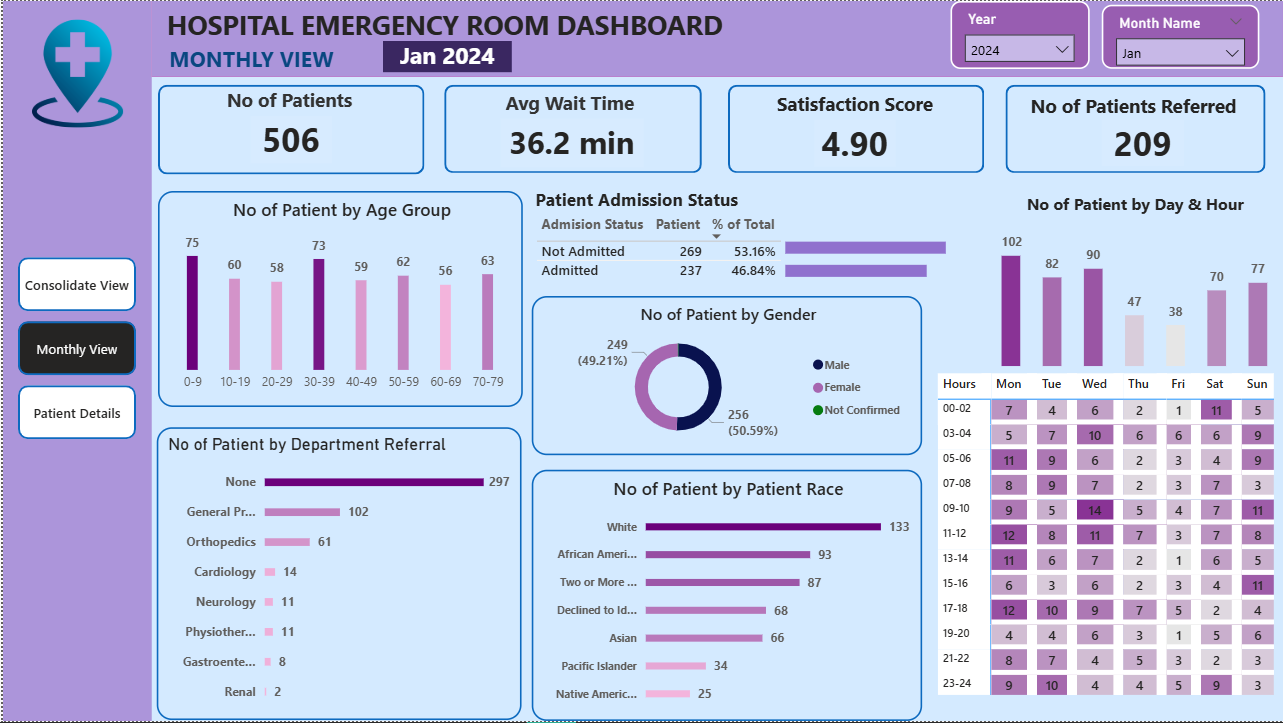

This screenshot's page, from the dashboard's own definition file:
{"tool":"powerbi","page":{"name":"Monthly View","canvas":[1280,720],"ordinal":1},"visuals":[{"type":"shape","box":[155.3,83.3,266.4,89.6],"z":0},{"type":"shape","box":[0,0,148.8,720],"z":1000},{"type":"shape","box":[149,0,1131.3,75.8],"z":2000},{"type":"textbox","box":[159.1,0,588.4,46.7],"z":3000},{"type":"textbox","box":[161.6,37.9,178,41.7],"z":4000},{"type":"card","fields":{"Values":["Hospital ER_Data.No of Patient"]},"box":[247.5,115.3,81.2,47.5],"z":5000},{"type":"slicer","fields":{"Values":["Data Table 1.Year"]},"box":[946.9,0,138.9,68.2],"z":6000},{"type":"slicer","fields":{"Values":["Data Table 1.Month Name"]},"box":[1098.4,3.8,157.8,64.4],"z":7000},{"type":"textbox","box":[218.7,81.5,137.5,43.8],"z":8000},{"type":"card","fields":{"Values":["Min(Data Table 1.Month & Year)"]},"box":[380,40.4,128.8,31.6],"z":9000},{"type":"shape","box":[440.6,83.3,257.6,88.4],"z":10000},{"type":"card","fields":{"Values":["Hospital ER_Data.Avg Wait Time"]},"box":[497.1,117.1,142.9,48.6],"z":11000},{"type":"textbox","box":[497.1,84.3,152.9,40],"z":12000},{"type":"shape","box":[1002.5,83.3,260.1,88.4],"z":13000},{"type":"card","fields":{"Values":["Hospital ER_Data.No of Patient Reffered"]},"box":[1098.4,118.7,82.1,46.7],"z":14000},{"type":"textbox","box":[1022.7,87.1,217.2,42.9],"z":15000},{"type":"shape","box":[724.7,83.3,256.3,88.4],"z":16000},{"type":"card","fields":{"Values":["Hospital ER_Data.Satisfaction Score"]},"box":[811.2,119,81.2,47.5],"z":17000},{"type":"textbox","box":[768.7,85.3,171.2,43.8],"z":18000},{"type":"columnChart","fields":{"Category":["Hospital ER_Data.\"Age Group"],"Y":["Hospital ER_Data.No of Patient"]},"box":[155.3,189.4,364.9,215.9],"z":19000},{"type":"clusteredBarChart","fields":{"Category":["Hospital ER_Data.Department Referral"],"Y":["Hospital ER_Data.No of Patient"]},"box":[154,426.8,364.9,292.9],"z":20000},{"type":"group","id":"g1","title":"Group 1","box":[527.8,186.9,439.4,108.6],"z":21000},{"type":"donutChart","title":"No of Patient by Gender","fields":{"Y":["Hospital ER_Data.No of Patient"],"Category":["Hospital ER_Data.Patient Gender"]},"box":[529,295.4,390.1,159.1],"z":22000},{"type":"tableEx","title":"Patient Admission Status","fields":{"Values":["Hospital ER_Data.Admision Status","Hospital ER_Data.No of Patient1","Hospital ER_Data.No of Patient"]},"box":[527.8,186.9,419.7,104.8],"z":23000,"group":"g1"},{"type":"clusteredBarChart","fields":{"Y":["Hospital ER_Data.No of Patient"],"Category":["Hospital ER_Data.Patient Race"]},"box":[528.6,468.6,390,251.4],"z":23000},{"type":"barChart","fields":{"Category":["Hospital ER_Data.Admision Status"],"Y":["Hospital ER_Data.No of Patient"]},"box":[778.2,217.2,189,78.3],"z":24000,"group":"g1"},{"type":"pivotTable","fields":{"Rows":["Hospital ER_Data.Time Interval"],"Columns":["Data Table 1.Day"],"Values":["Hospital ER_Data.No of Patient"]},"box":[930,367.1,350,337.1],"z":24000},{"type":"columnChart","title":"No of Patient by Day & Hour","fields":{"Category":["Data Table 1.Day Name"],"Y":["Hospital ER_Data.No of Patient"]},"box":[994.3,191.4,277.1,180],"z":25000},{"type":"image","box":[15.2,13.9,118.7,117.4],"z":26000},{"type":"pageNavigator","box":[14.9,256.3,118.2,184.1],"z":27000}]}

Visuals, with their boxes in screenshot pixels (x1, y1, x2, y2), scaled from the page's 1280x720 canvas onto the 1283x723 screenshot:
shape: (x1=156, y1=84, x2=423, y2=174)
shape: (x1=0, y1=0, x2=149, y2=722)
shape: (x1=149, y1=0, x2=1282, y2=76)
textbox: (x1=159, y1=0, x2=749, y2=47)
textbox: (x1=162, y1=38, x2=340, y2=80)
card - Hospital ER_Data.No of Patient: (x1=248, y1=116, x2=329, y2=163)
slicer - Data Table 1.Year: (x1=949, y1=0, x2=1088, y2=68)
slicer - Data Table 1.Month Name: (x1=1101, y1=4, x2=1259, y2=68)
textbox: (x1=219, y1=82, x2=357, y2=126)
card - Min(Data Table 1.Month & Year): (x1=381, y1=41, x2=510, y2=72)
shape: (x1=442, y1=84, x2=700, y2=172)
card - Hospital ER_Data.Avg Wait Time: (x1=498, y1=118, x2=642, y2=166)
textbox: (x1=498, y1=85, x2=652, y2=125)
shape: (x1=1005, y1=84, x2=1266, y2=172)
card - Hospital ER_Data.No of Patient Reffered: (x1=1101, y1=119, x2=1183, y2=166)
textbox: (x1=1025, y1=87, x2=1243, y2=131)
shape: (x1=726, y1=84, x2=983, y2=172)
card - Hospital ER_Data.Satisfaction Score: (x1=813, y1=119, x2=894, y2=167)
textbox: (x1=771, y1=86, x2=942, y2=130)
columnChart - Hospital ER_Data."Age Group x Hospital ER_Data.No of Patient: (x1=156, y1=190, x2=521, y2=407)
clusteredBarChart - Hospital ER_Data.Department Referral x Hospital ER_Data.No of Patient: (x1=154, y1=429, x2=520, y2=722)
"Group 1" group: (x1=529, y1=188, x2=969, y2=297)
"No of Patient by Gender" donutChart: (x1=530, y1=297, x2=921, y2=456)
"Patient Admission Status" tableEx: (x1=529, y1=188, x2=950, y2=293)
clusteredBarChart - Hospital ER_Data.No of Patient x Hospital ER_Data.Patient Race: (x1=530, y1=471, x2=921, y2=722)
barChart - Hospital ER_Data.Admision Status x Hospital ER_Data.No of Patient: (x1=780, y1=218, x2=969, y2=297)
pivotTable - Hospital ER_Data.Time Interval x Data Table 1.Day: (x1=932, y1=369, x2=1282, y2=707)
"No of Patient by Day & Hour" columnChart: (x1=997, y1=192, x2=1274, y2=373)
image: (x1=15, y1=14, x2=134, y2=132)
pageNavigator: (x1=15, y1=257, x2=133, y2=442)
